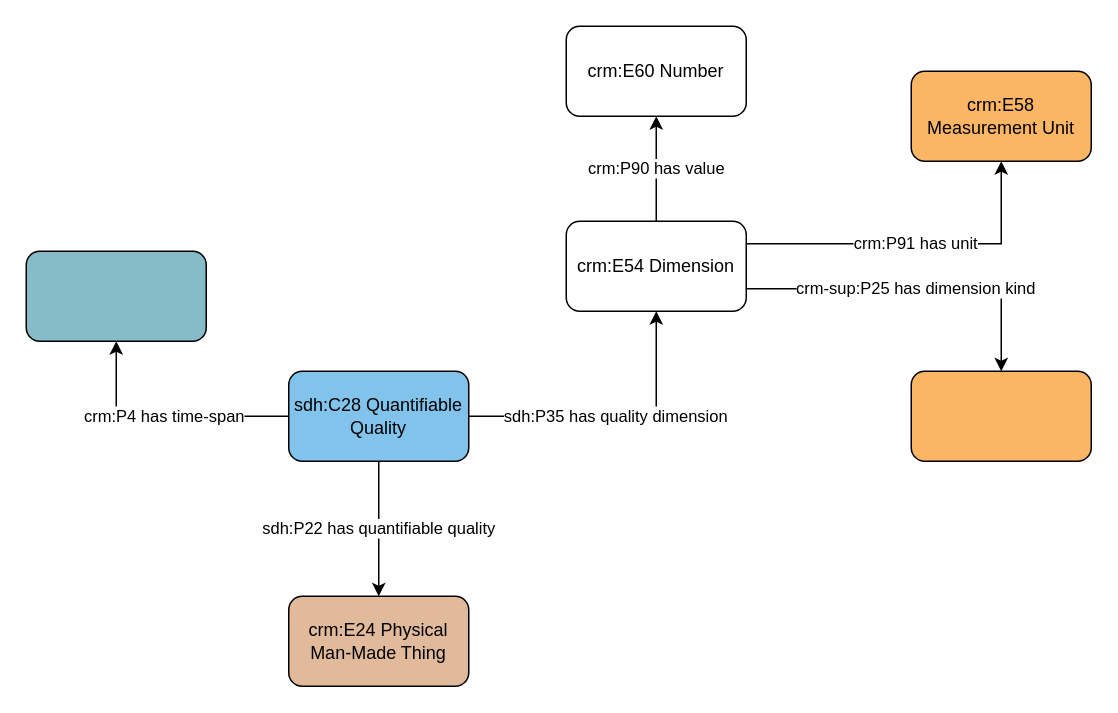
Image size: 1118x713. Some labels were removed from this diagram. The centre of each missing label's shape, as x and y in pixels:
"crm-sup:C27 Dimension Kind" belongs at (1000,415).
"E52_Time-Span" belongs at (115,295).
